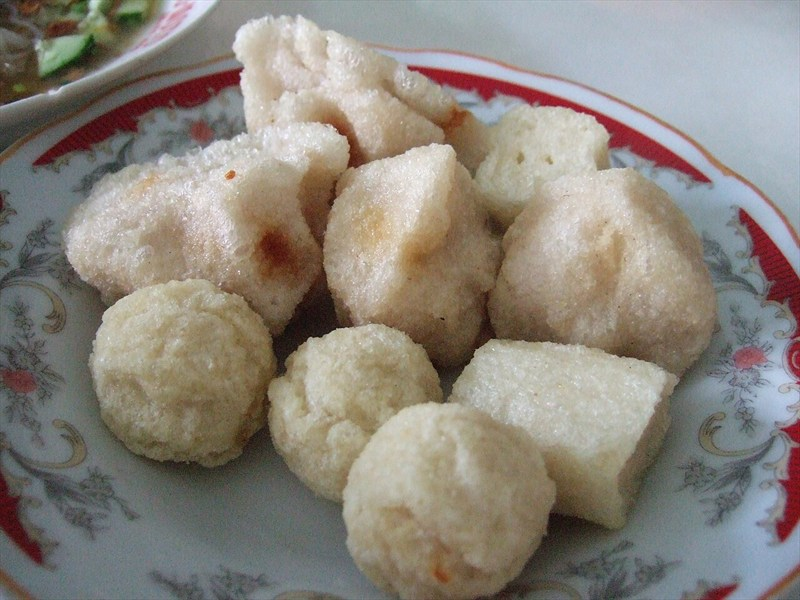Pempek: (52, 24, 783, 441)
